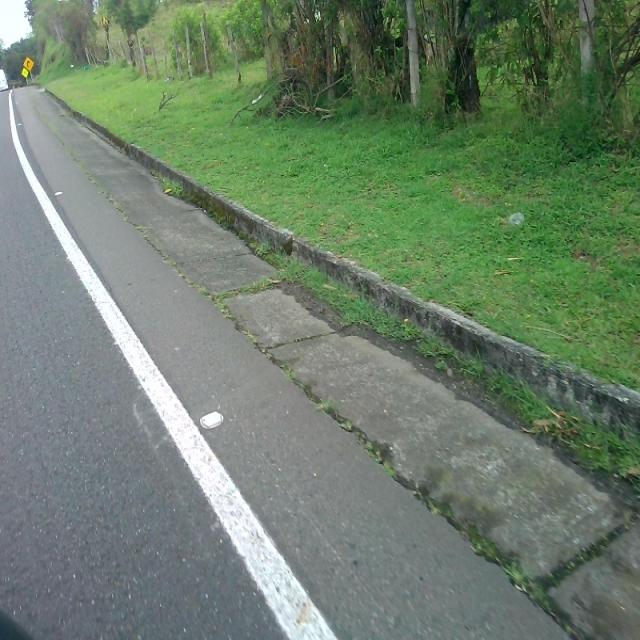DITCH: (12, 84, 638, 638), (1, 94, 638, 638)
